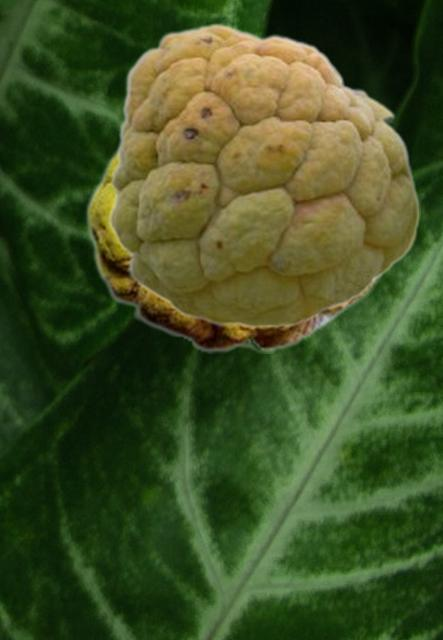atis: (107, 22, 419, 327), (84, 146, 386, 352)
